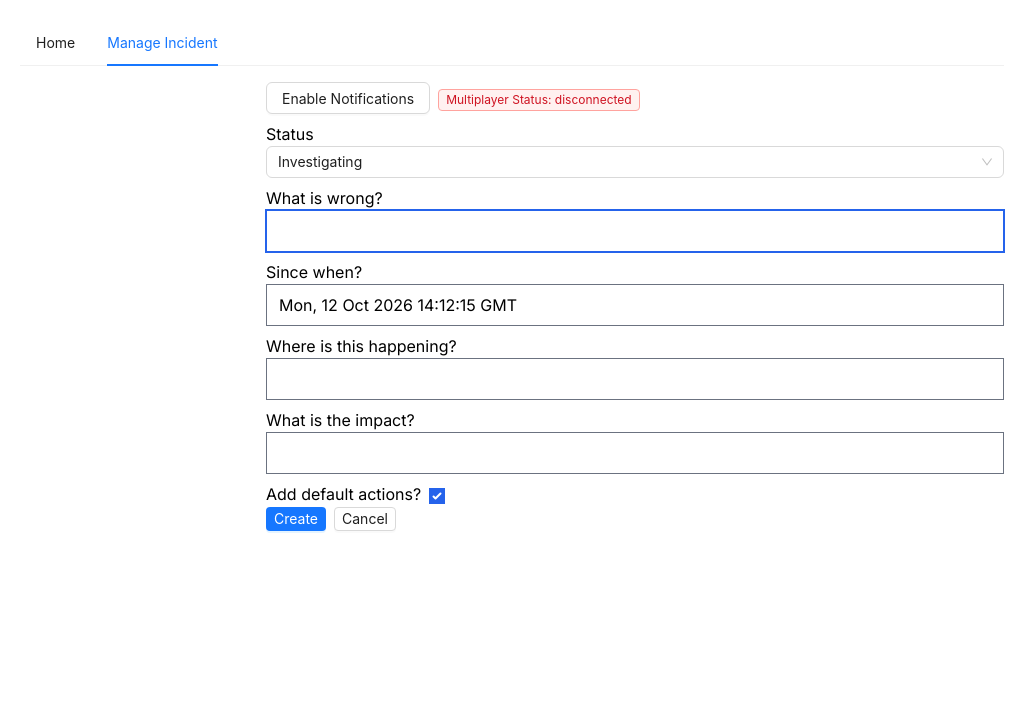
Creating a New Incident › can select the status through the keyboard
Click the element showing "Investigating" at (635, 162), box x1=266 y1=146 x2=1004 y2=178
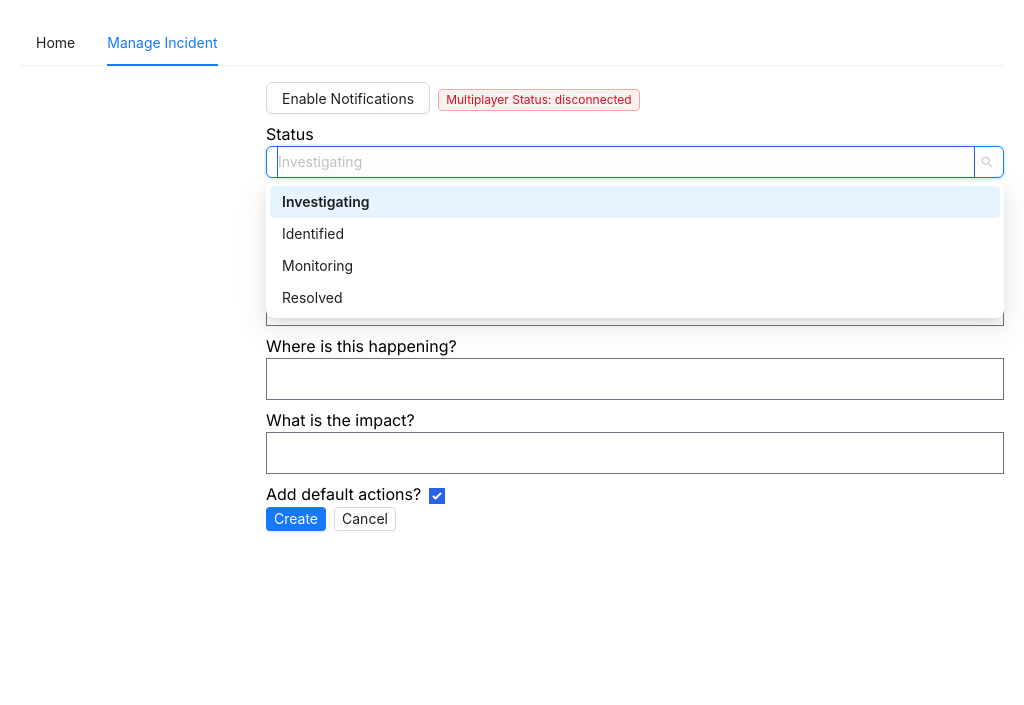
Type "monitor" into the element showing "Investigating" below "Multiplayer Status:" at (635, 162), box x1=266 y1=146 x2=1004 y2=178
Then press Enter
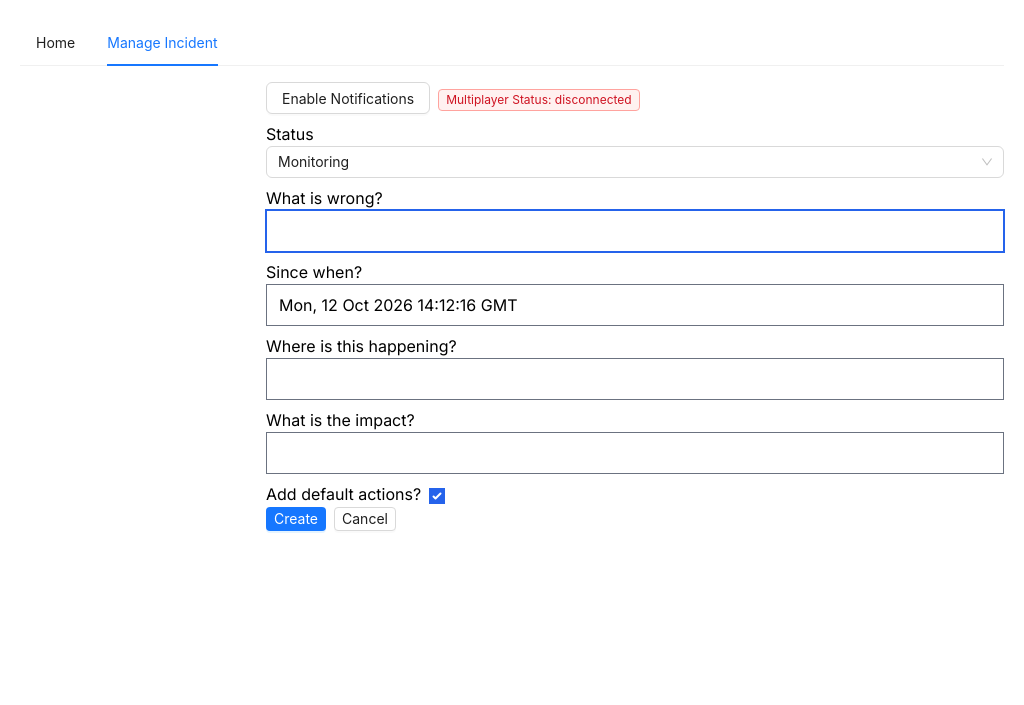
Type "This is the what" into the field labelled "What is wrong?" at (635, 231), box x1=266 y1=210 x2=1004 y2=252
Replace the text in the field labelled "Since when?" with "This is the when" at (635, 305), box x1=266 y1=284 x2=1004 y2=326
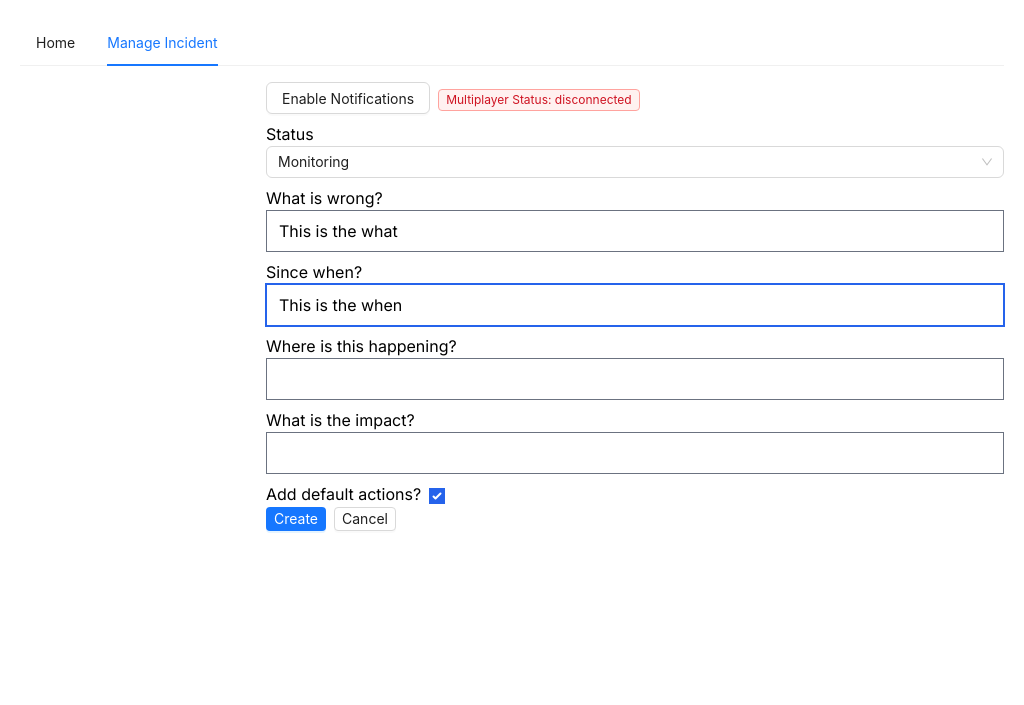
Type "This is the where" into the field labelled "Where is this happening?" at (635, 379), box x1=266 y1=358 x2=1004 y2=400
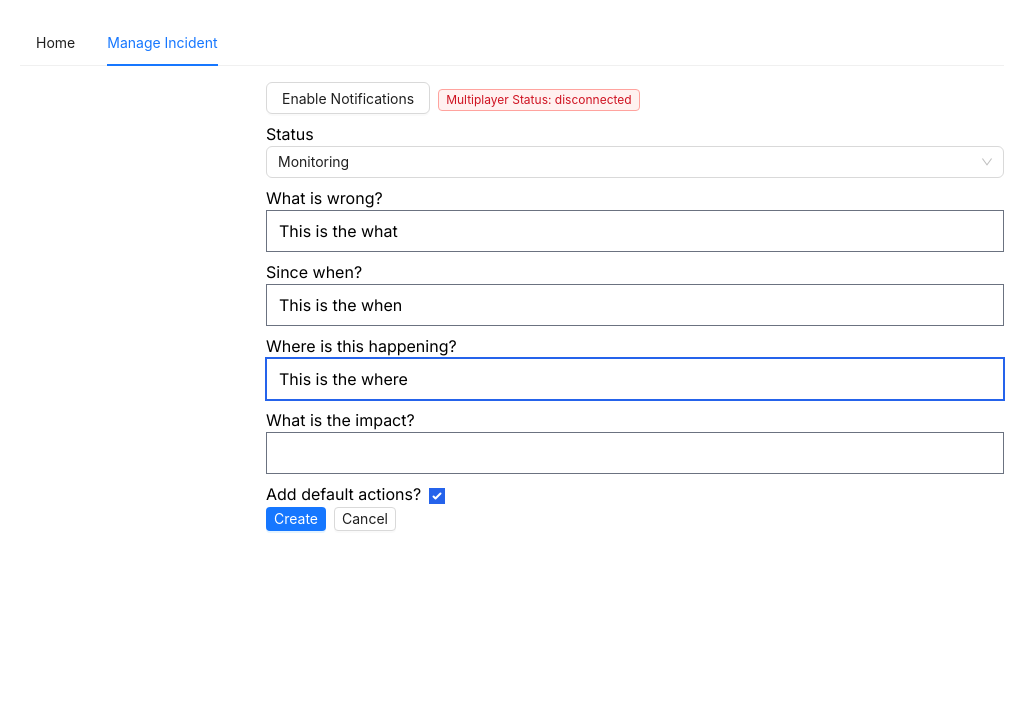
Type "This is the impact" into the 4th field at (635, 453), box x1=266 y1=432 x2=1004 y2=474
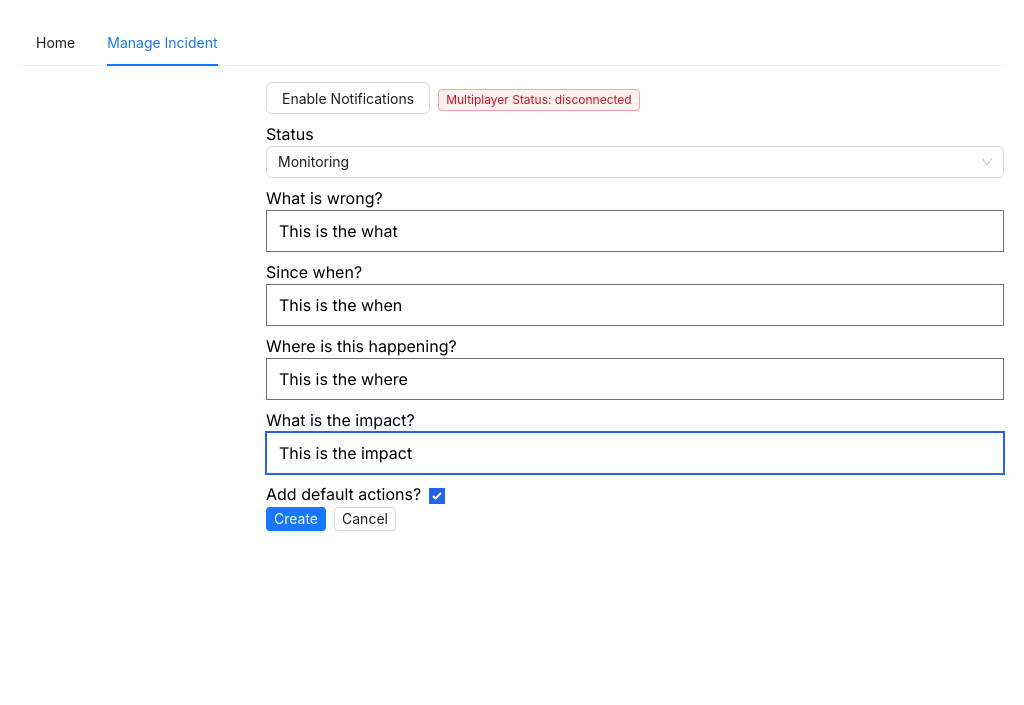
Click the button "Create" at (296, 519), box x1=266 y1=507 x2=326 y2=531
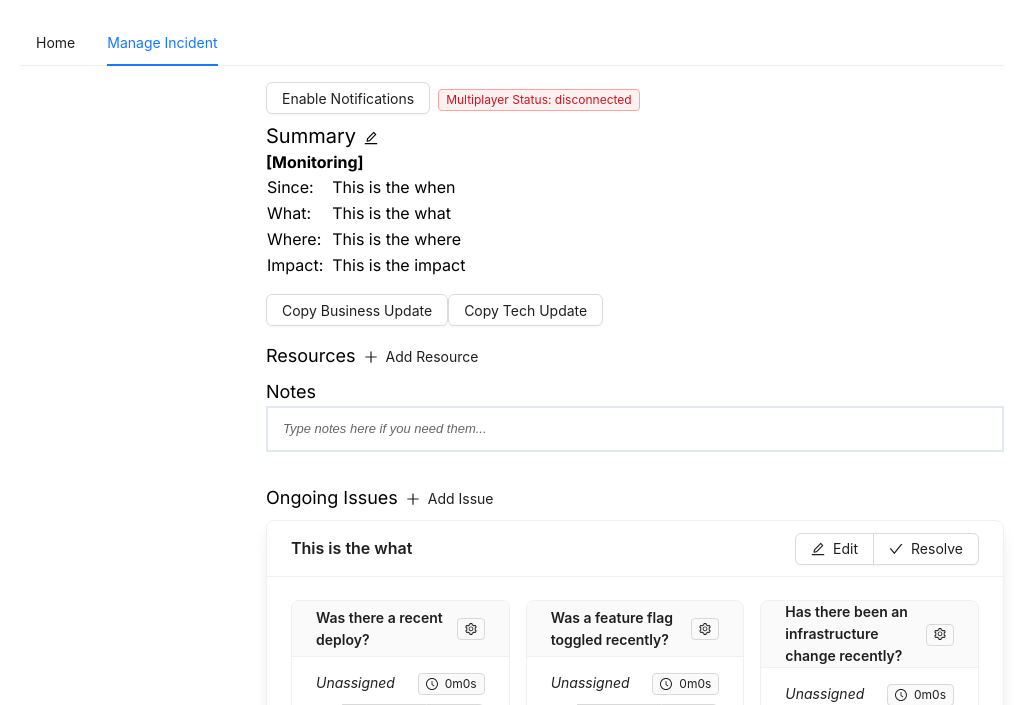
Result: the text "[Monitoring]" is shown at x1=266 y1=152 x2=364 y2=172
